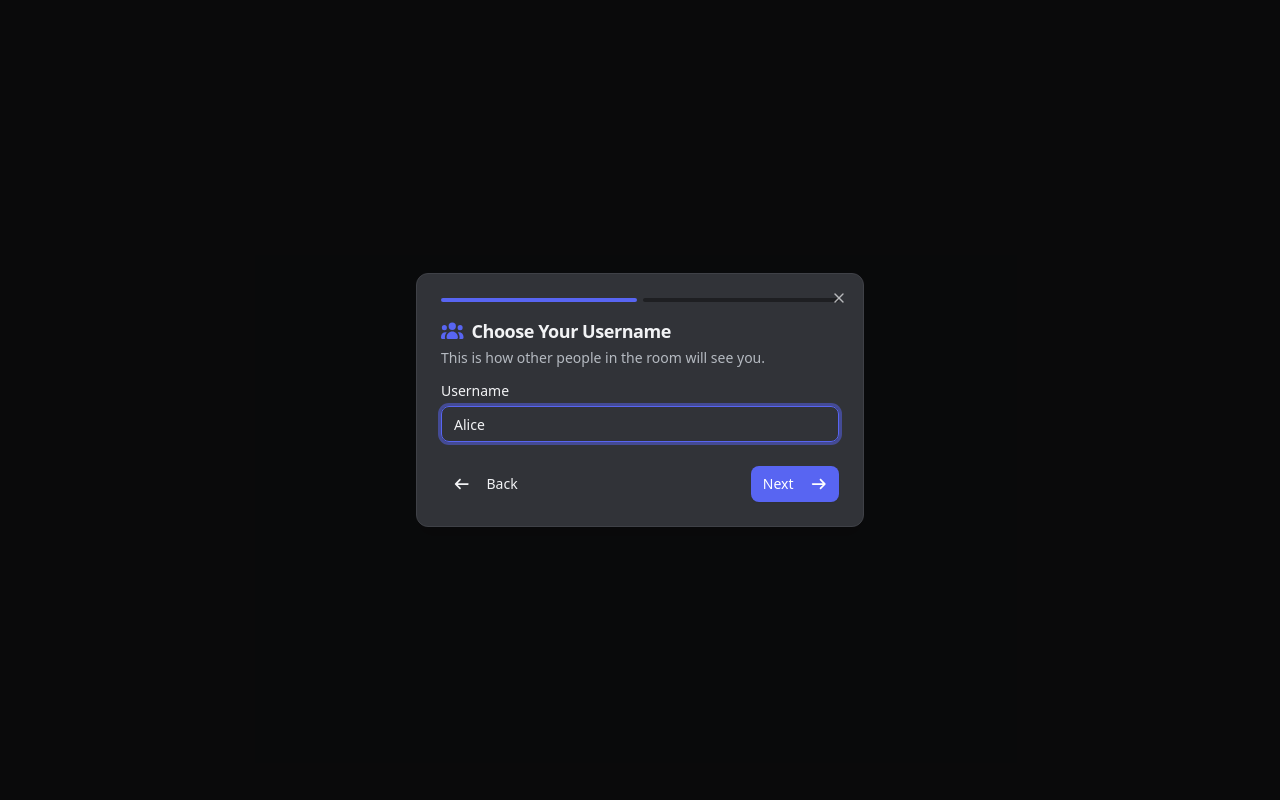
Scenario: OnboardingModal › navigates back from privacy step
Expected: the heading "Choose Your Username" is shown, [441, 319, 671, 343]
Note: Enter username and go to privacy
Type "TestUser" into the field with placeholder "Enter username..." at (640, 424), box [441, 406, 839, 442]
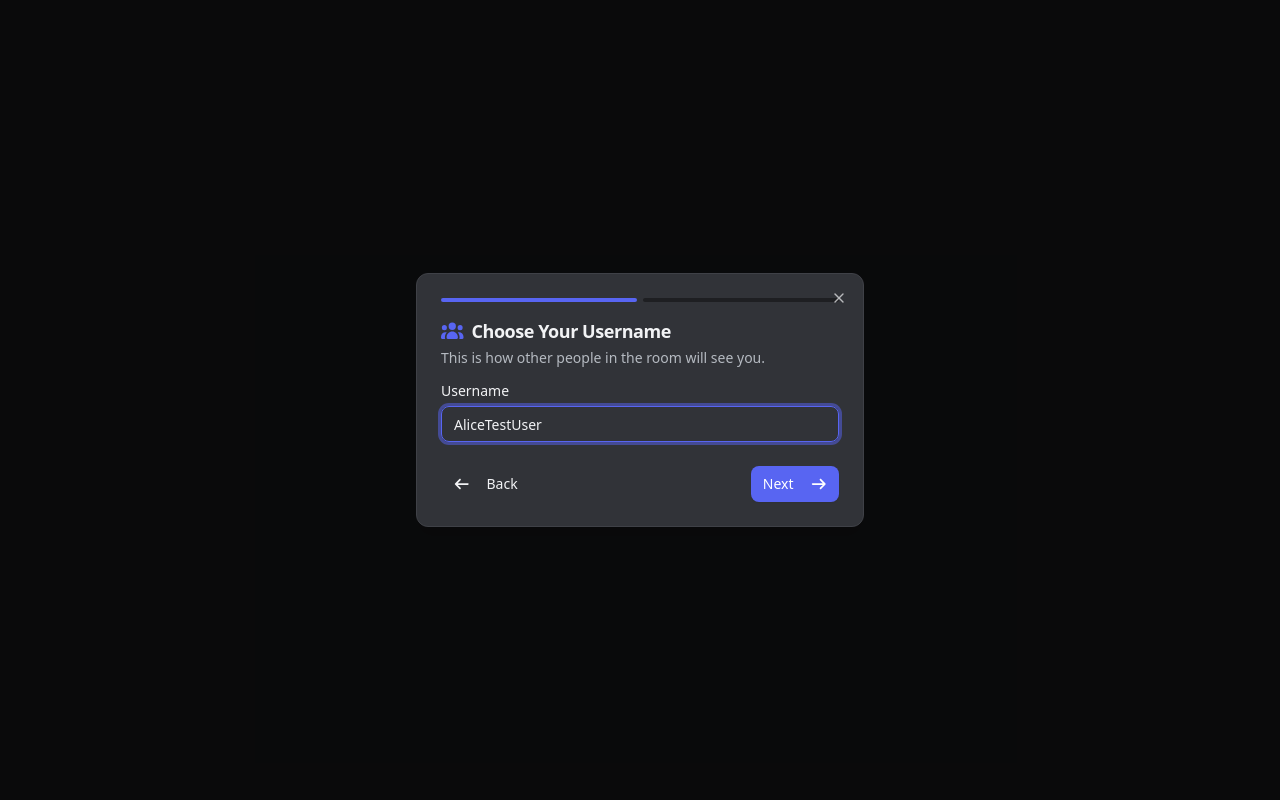
Click the button "Next" at (795, 484), box [751, 466, 839, 502]
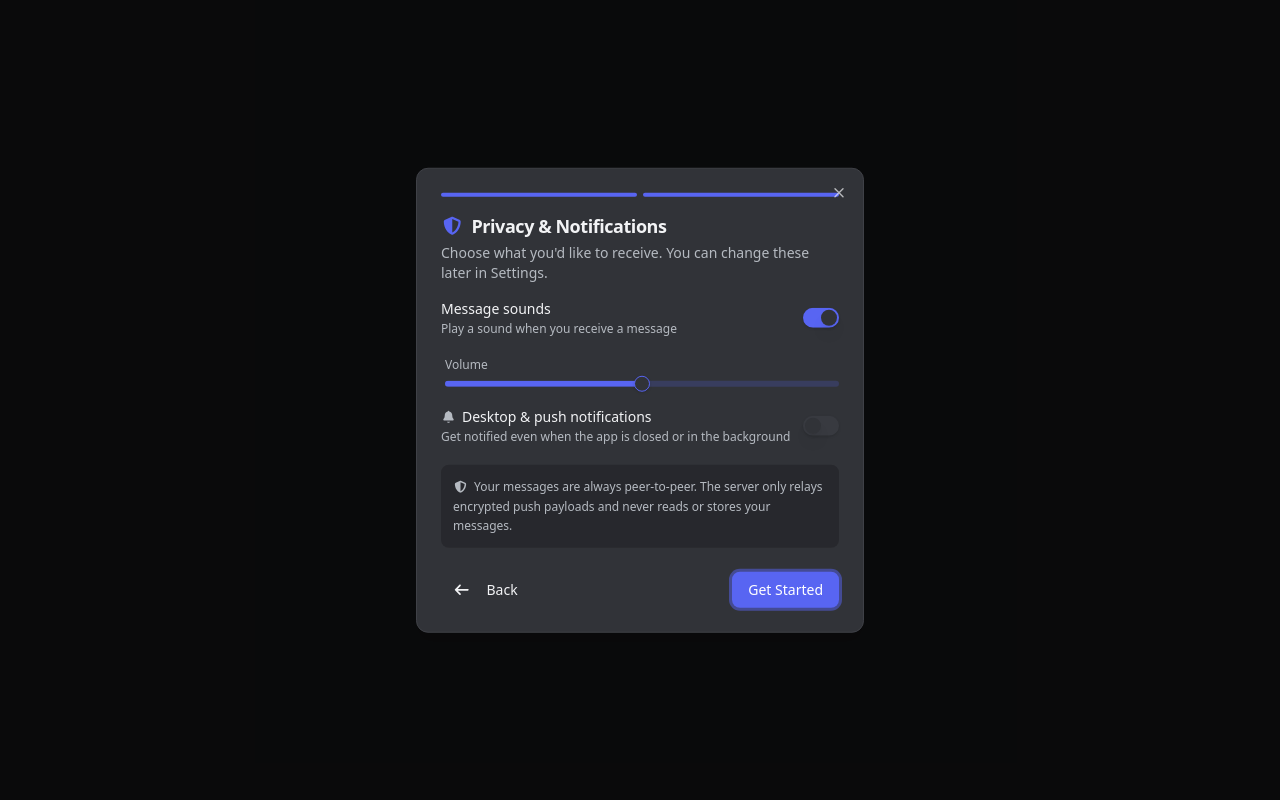
Expected: the heading "Privacy & Notifications" is shown, [441, 214, 666, 238]
Note: Click Back
Click the button "Back" at (485, 589), box [441, 571, 530, 607]
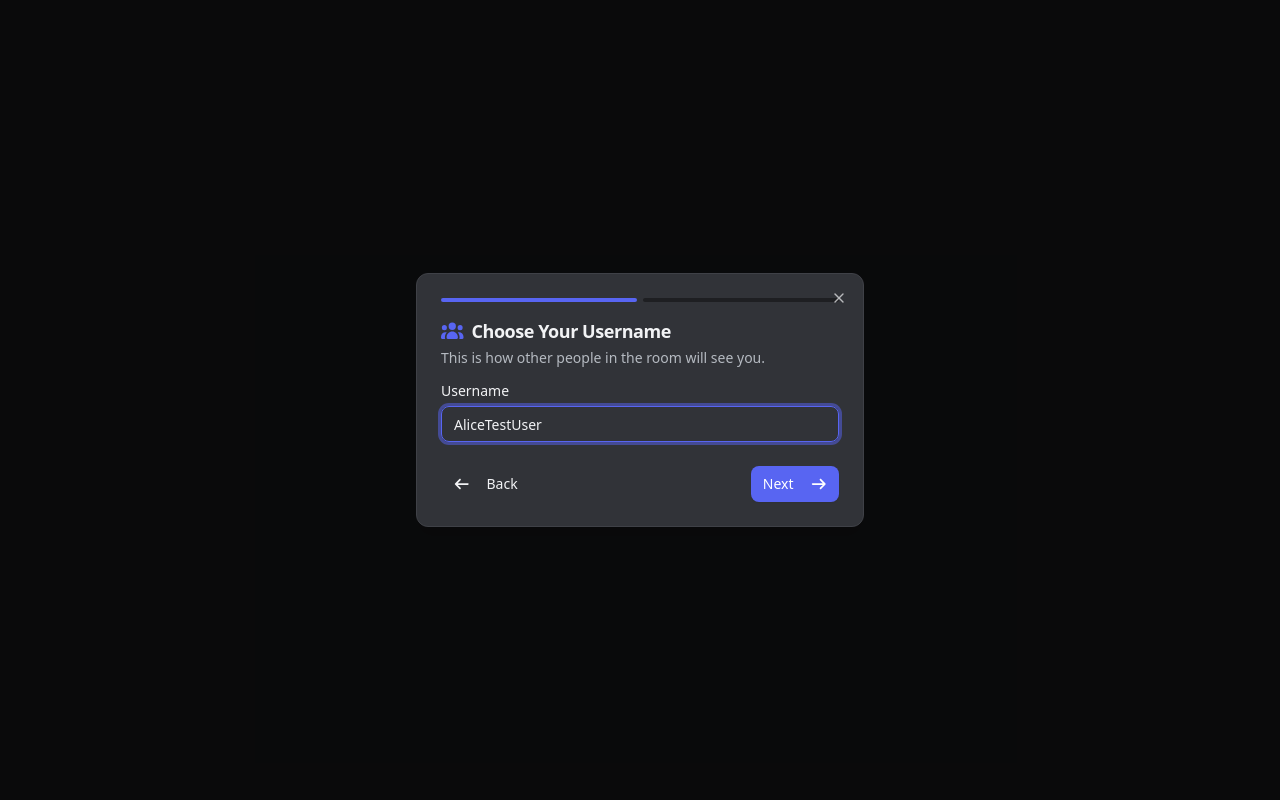
Expected: the heading "Choose Your Username" is shown, [441, 319, 671, 343]
